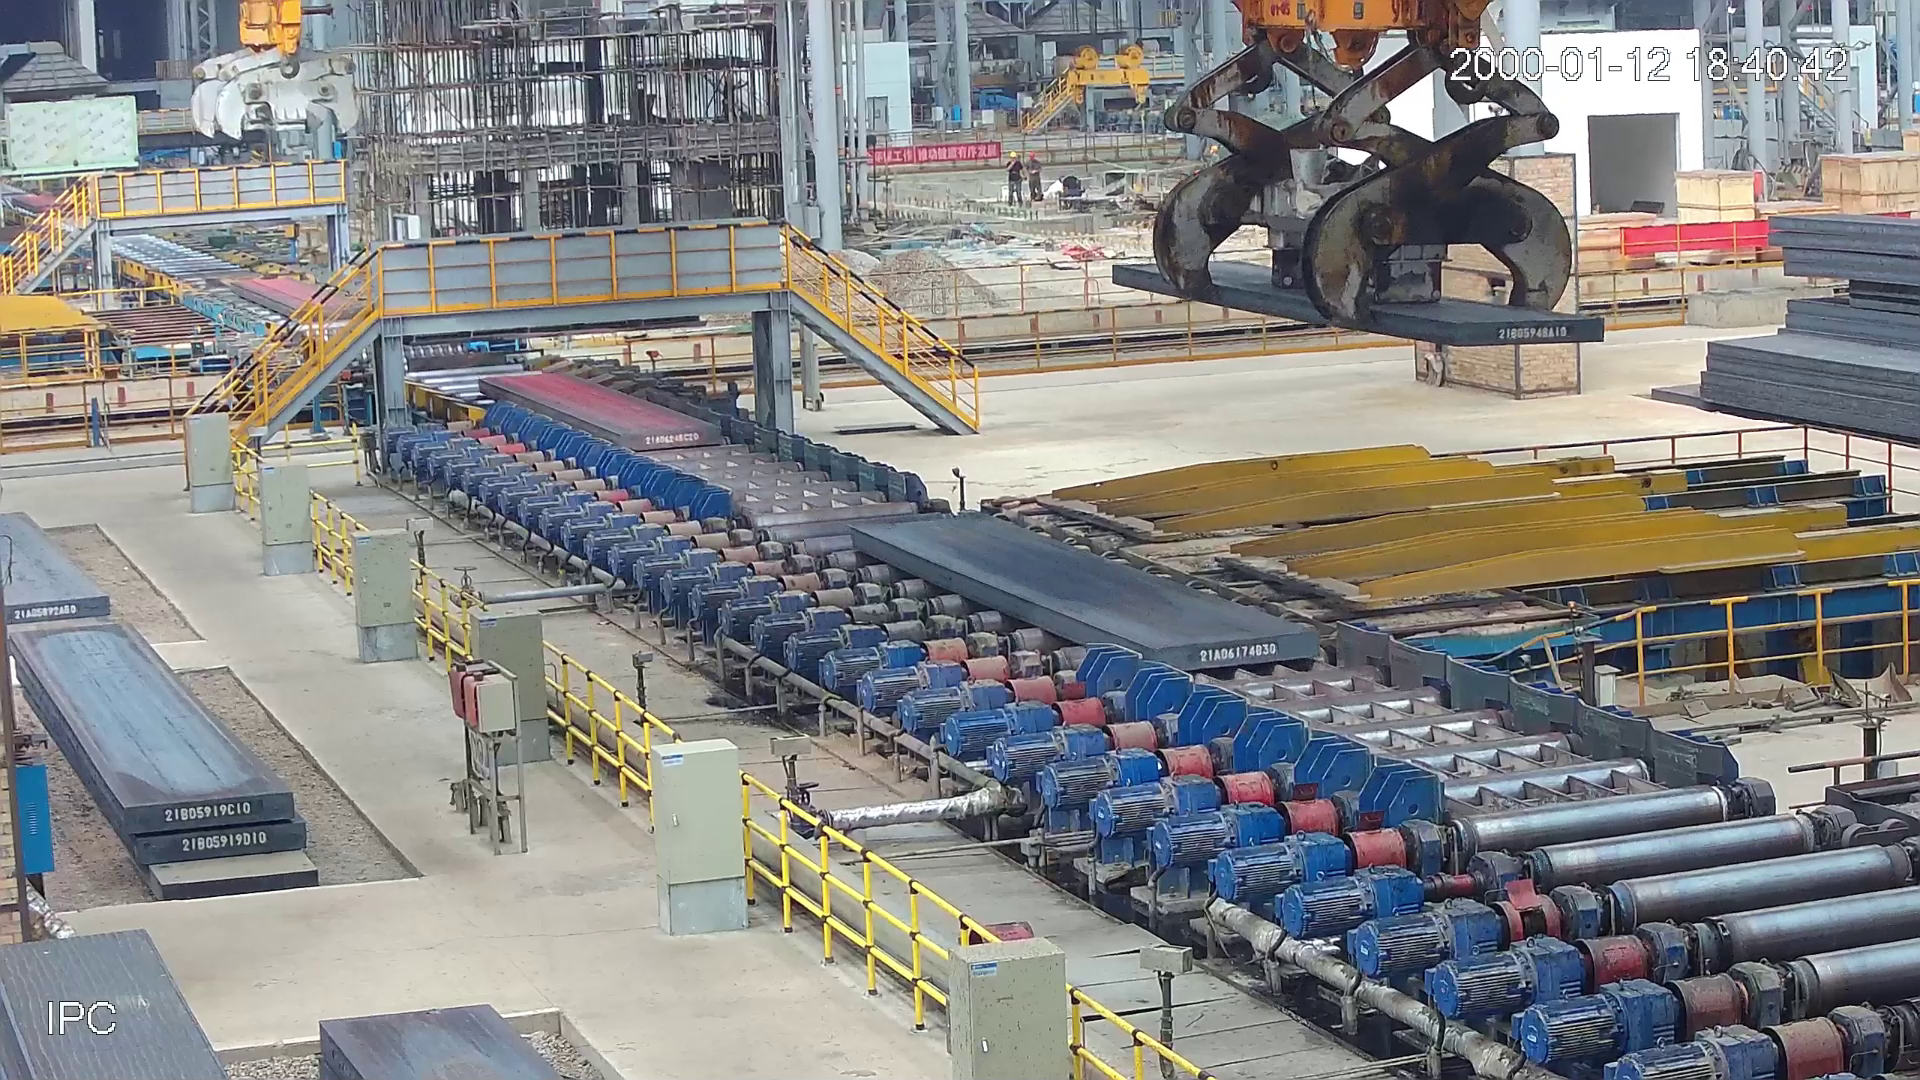craneandslab: (1110, 1, 1611, 349)
slab: (832, 506, 1332, 675), (473, 368, 735, 454), (229, 274, 375, 323)
